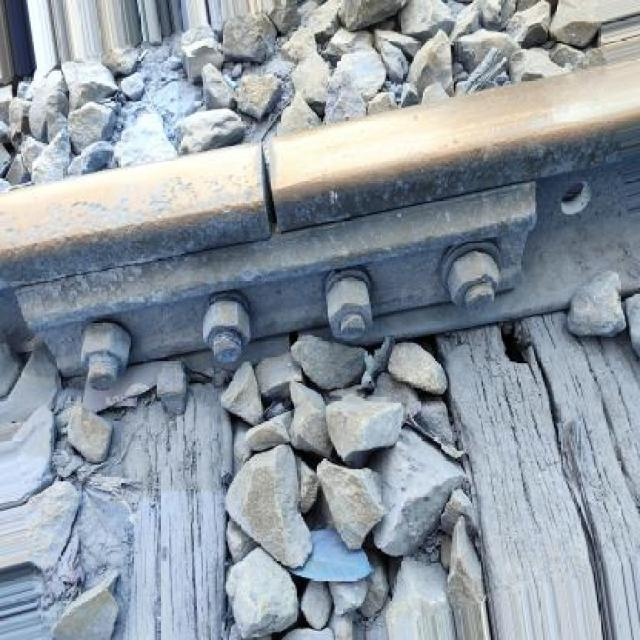defective: (4, 73, 640, 373)
